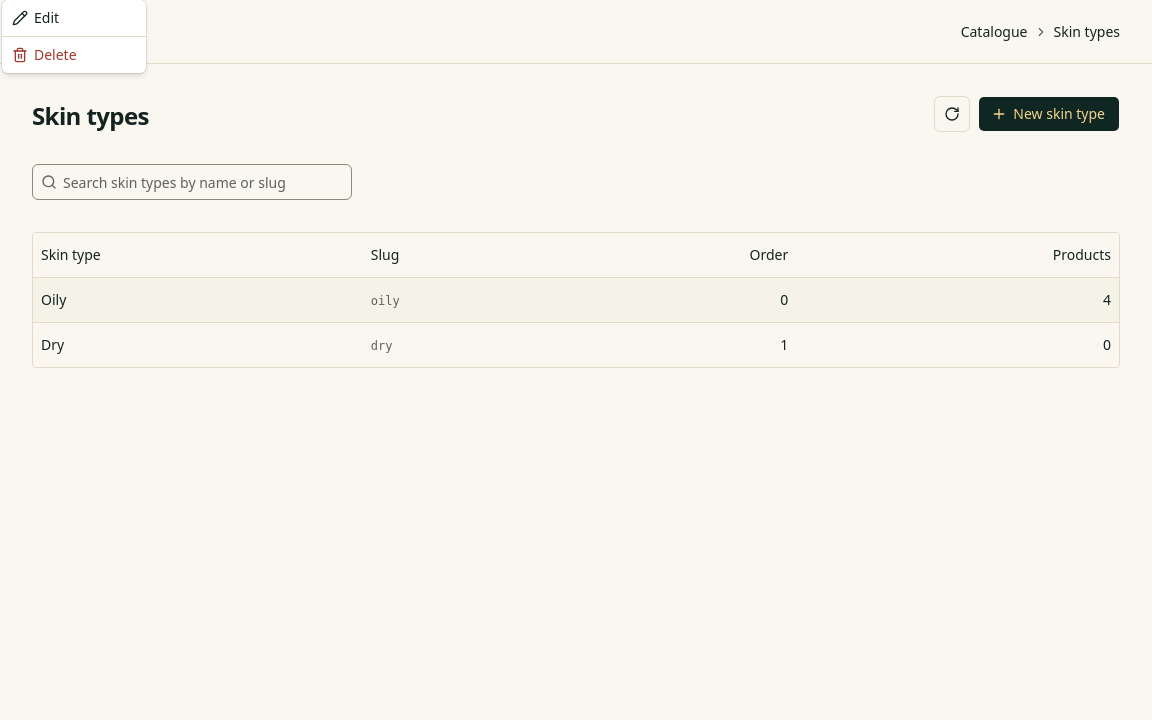
Test: skin types › deletes after the confirmation and shows the refetched list
Click the menu item "Delete".
click(44, 54)  # box [12, 45, 77, 64]
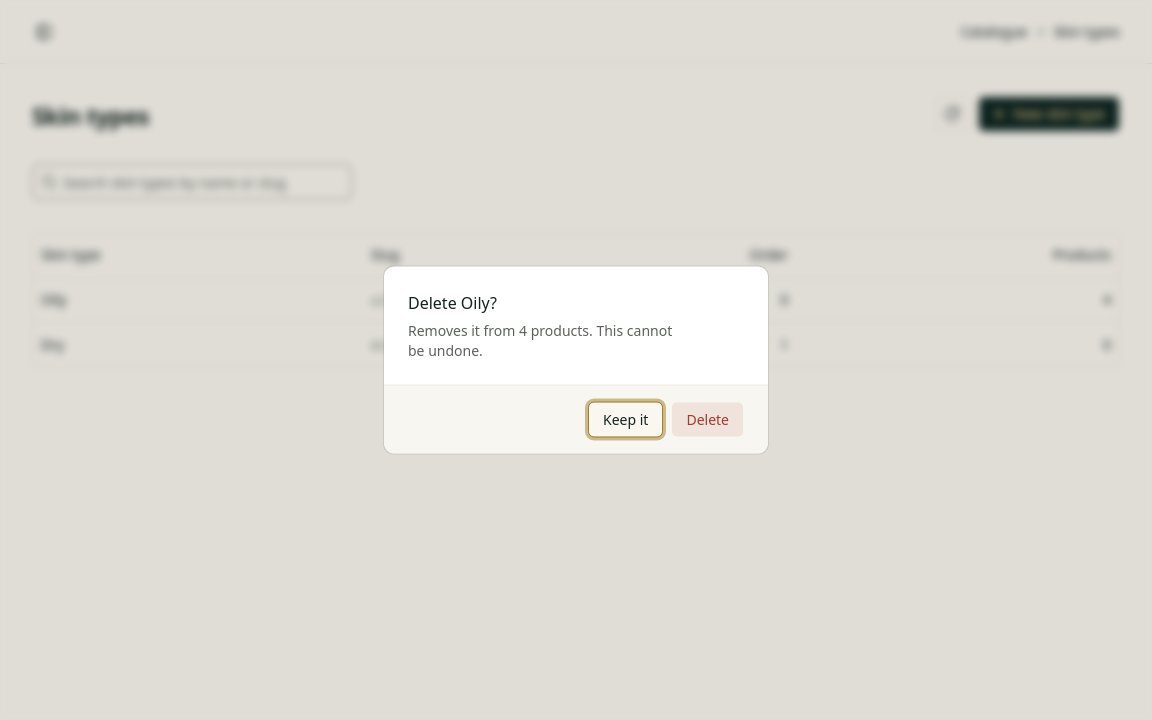
Click the button "Delete".
click(708, 420)  # box [671, 402, 744, 438]
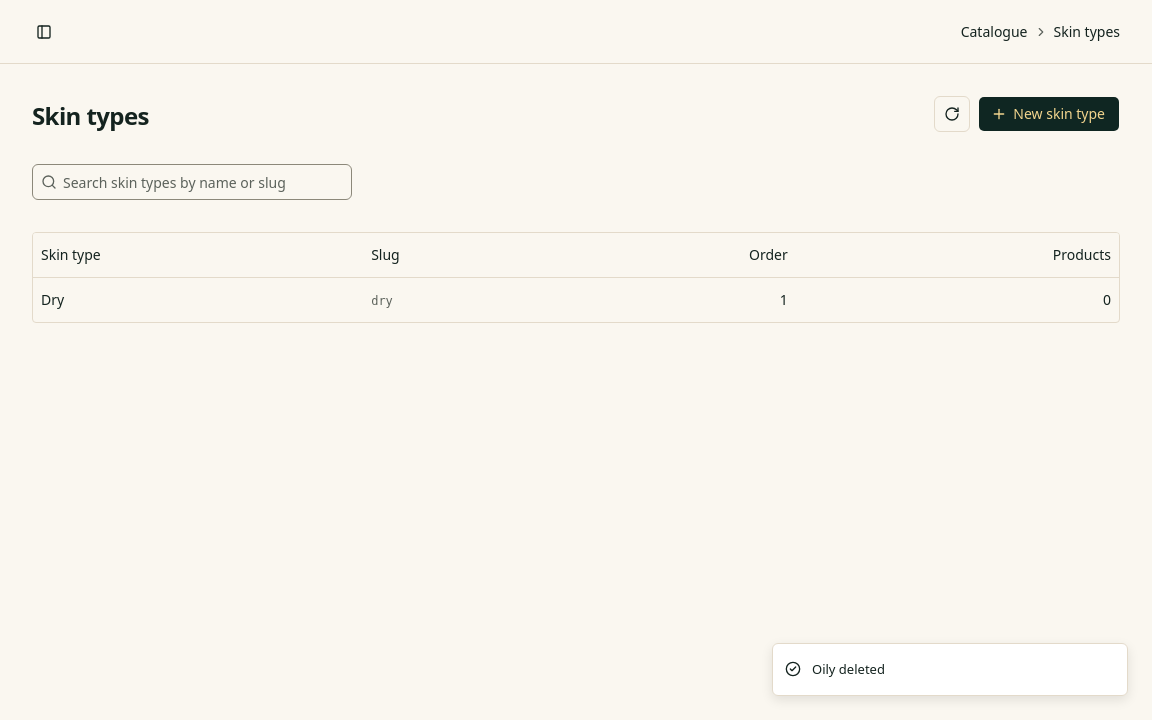
Check: the text "Oily deleted" is shown, box [812, 660, 885, 679]
Check: the cell "Dry" is shown, box [33, 277, 363, 322]
